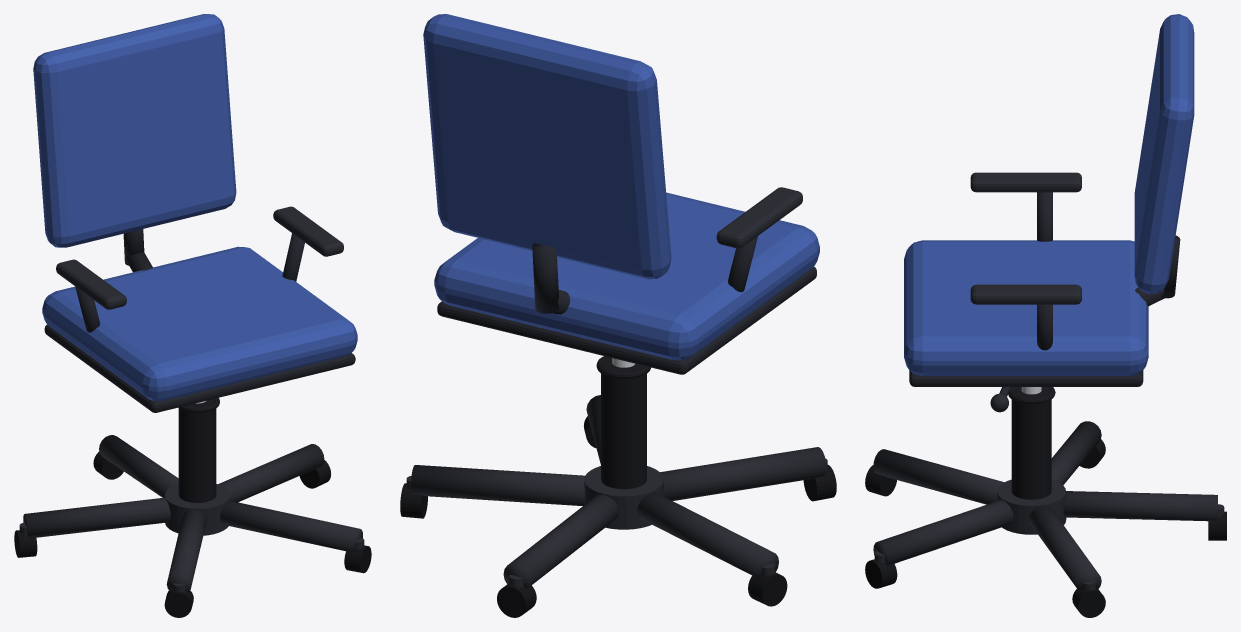
Rendered from silla_oficina.glb.
3 renders of one model, left to right at view 1: azimuth 30°, elevation 25°; view 2: azimuth 150°, elevation 25°; view 3: azimuth 270°, elevation 25°, orthographic. The views are drawn at different scales.
Visible parts, largest first — view 1: asiento, base, cilindro; view 2: asiento, base, cilindro; view 3: asiento, base, cilindro.
Boxes of the visible parts, x1,y1,x2,y2 form: asiento: (33,14,357,412); base: (14,435,371,617); cilindro: (178,398,219,502); asiento: (423,14,819,374); base: (400,395,836,617); cilindro: (596,356,650,489); asiento: (904,14,1194,386); base: (865,421,1226,617); cilindro: (1008,387,1055,499).
Bounding box in the file's own units: 1.43 × 2.01 × 1.36.
